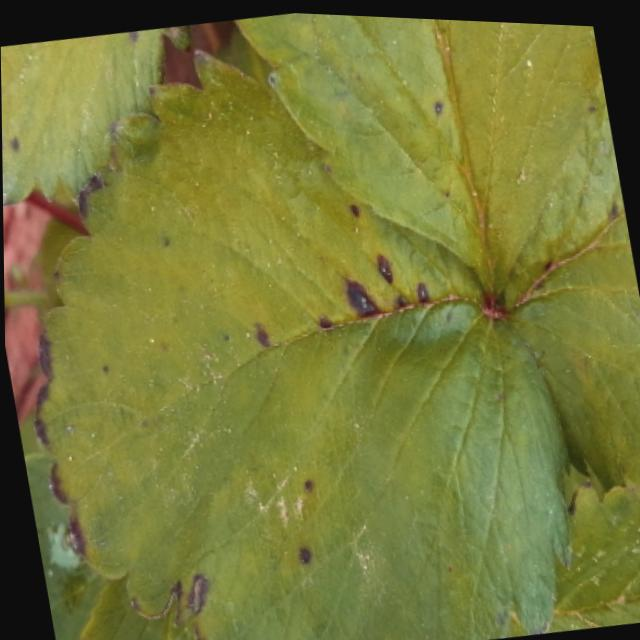Leaf Spot: (28, 42, 572, 640), (232, 10, 602, 303), (1, 26, 170, 209), (545, 469, 640, 628)
